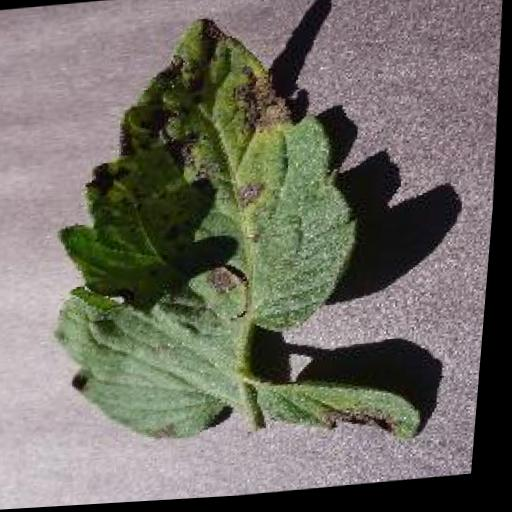Early Blight: (35, 0, 459, 478)
